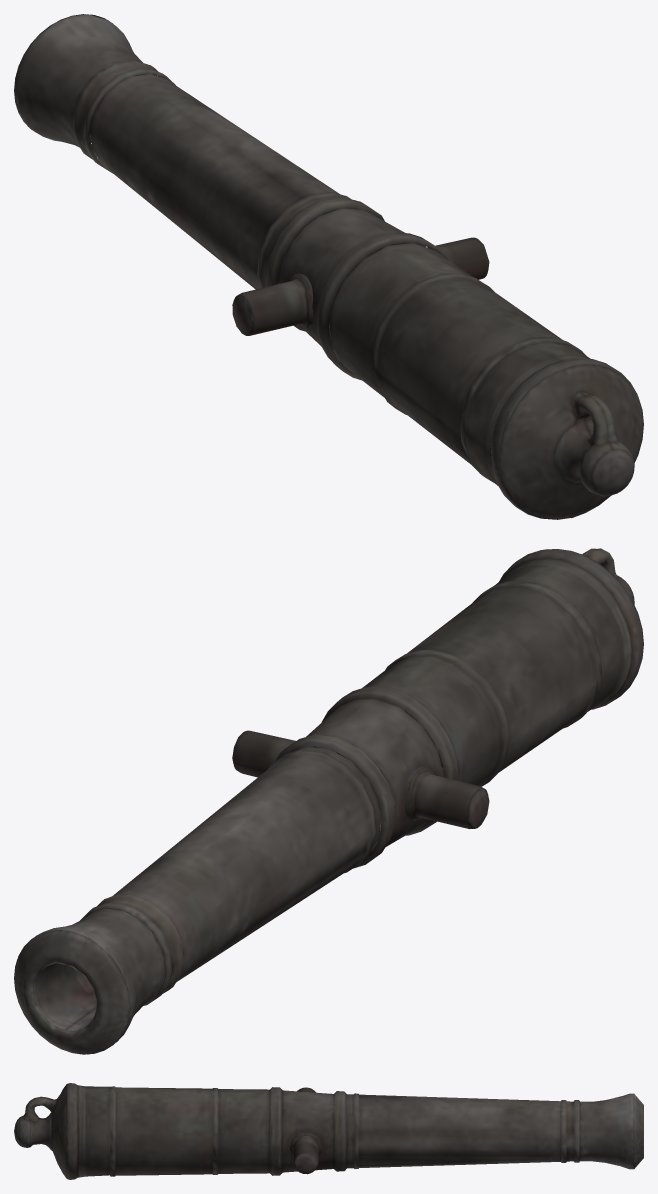
Rendered from cannon_barrel.glb.
3 renders of one model, top to bottom at view 1: azimuth 30°, elevation 25°; view 2: azimuth 150°, elevation 25°; view 3: azimuth 270°, elevation 25°, orthographic. The views are drawn at different scales.
Visible parts, largest first — view 1: cannon_01_barrel; view 2: cannon_01_barrel; view 3: cannon_01_barrel.
Part boxes in pixels (<box>): cannon_01_barrel: <box>14,14,643,519</box>; cannon_01_barrel: <box>14,548,643,1054</box>; cannon_01_barrel: <box>14,1083,643,1179</box>.
Bounding box in the file's own units: 0.5515 × 0.3423 × 2.23.
1 material, 1 textured.
